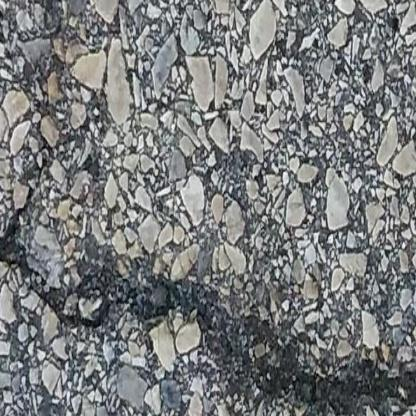Cracks: (0, 207, 416, 416), (42, 0, 81, 36)
